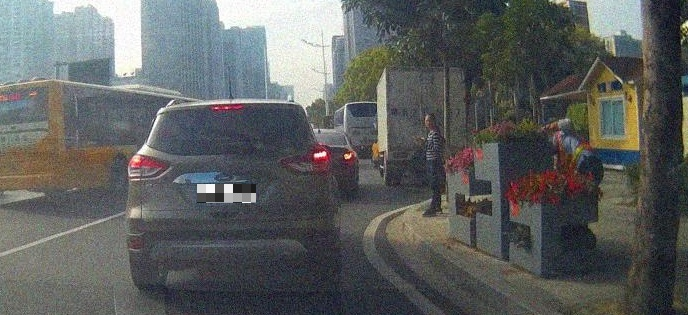L_light: (127, 154, 170, 179)
R_light: (281, 146, 331, 174)
T_light: (211, 104, 243, 110)
day-right: (125, 98, 341, 288)
plate_1: (197, 184, 256, 203)
